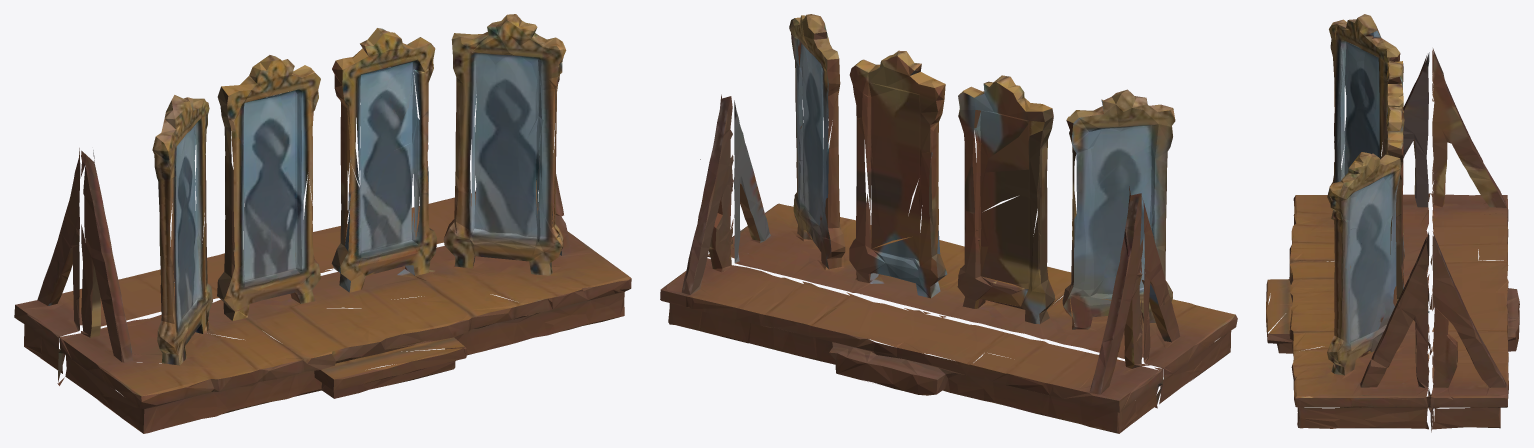
File: game_mirrors.glb
3 renders of one model, left to right at view 1: azimuth 30°, elevation 25°; view 2: azimuth 150°, elevation 25°; view 3: azimuth 270°, elevation 25°, orthographic. The views are drawn at different scales.
Parts seen in each view (by area): view 1: geometry_0; view 2: geometry_0; view 3: geometry_0.
Part boxes in pixels (x1,y1,x2,y2): geometry_0: (14, 14, 631, 433); geometry_0: (660, 14, 1237, 433); geometry_0: (1266, 14, 1519, 432).
Size of the model in its own units: 2.3 by 1.32 by 1.21.
Materials: 1 (1 with a texture image).
